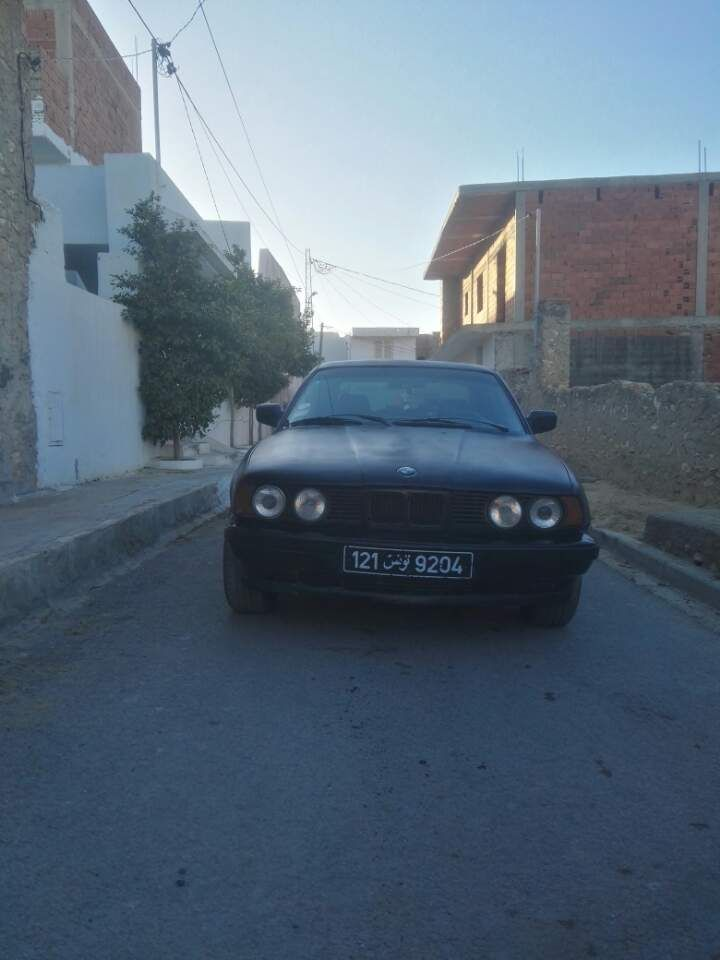LP: (340, 543, 473, 582)
